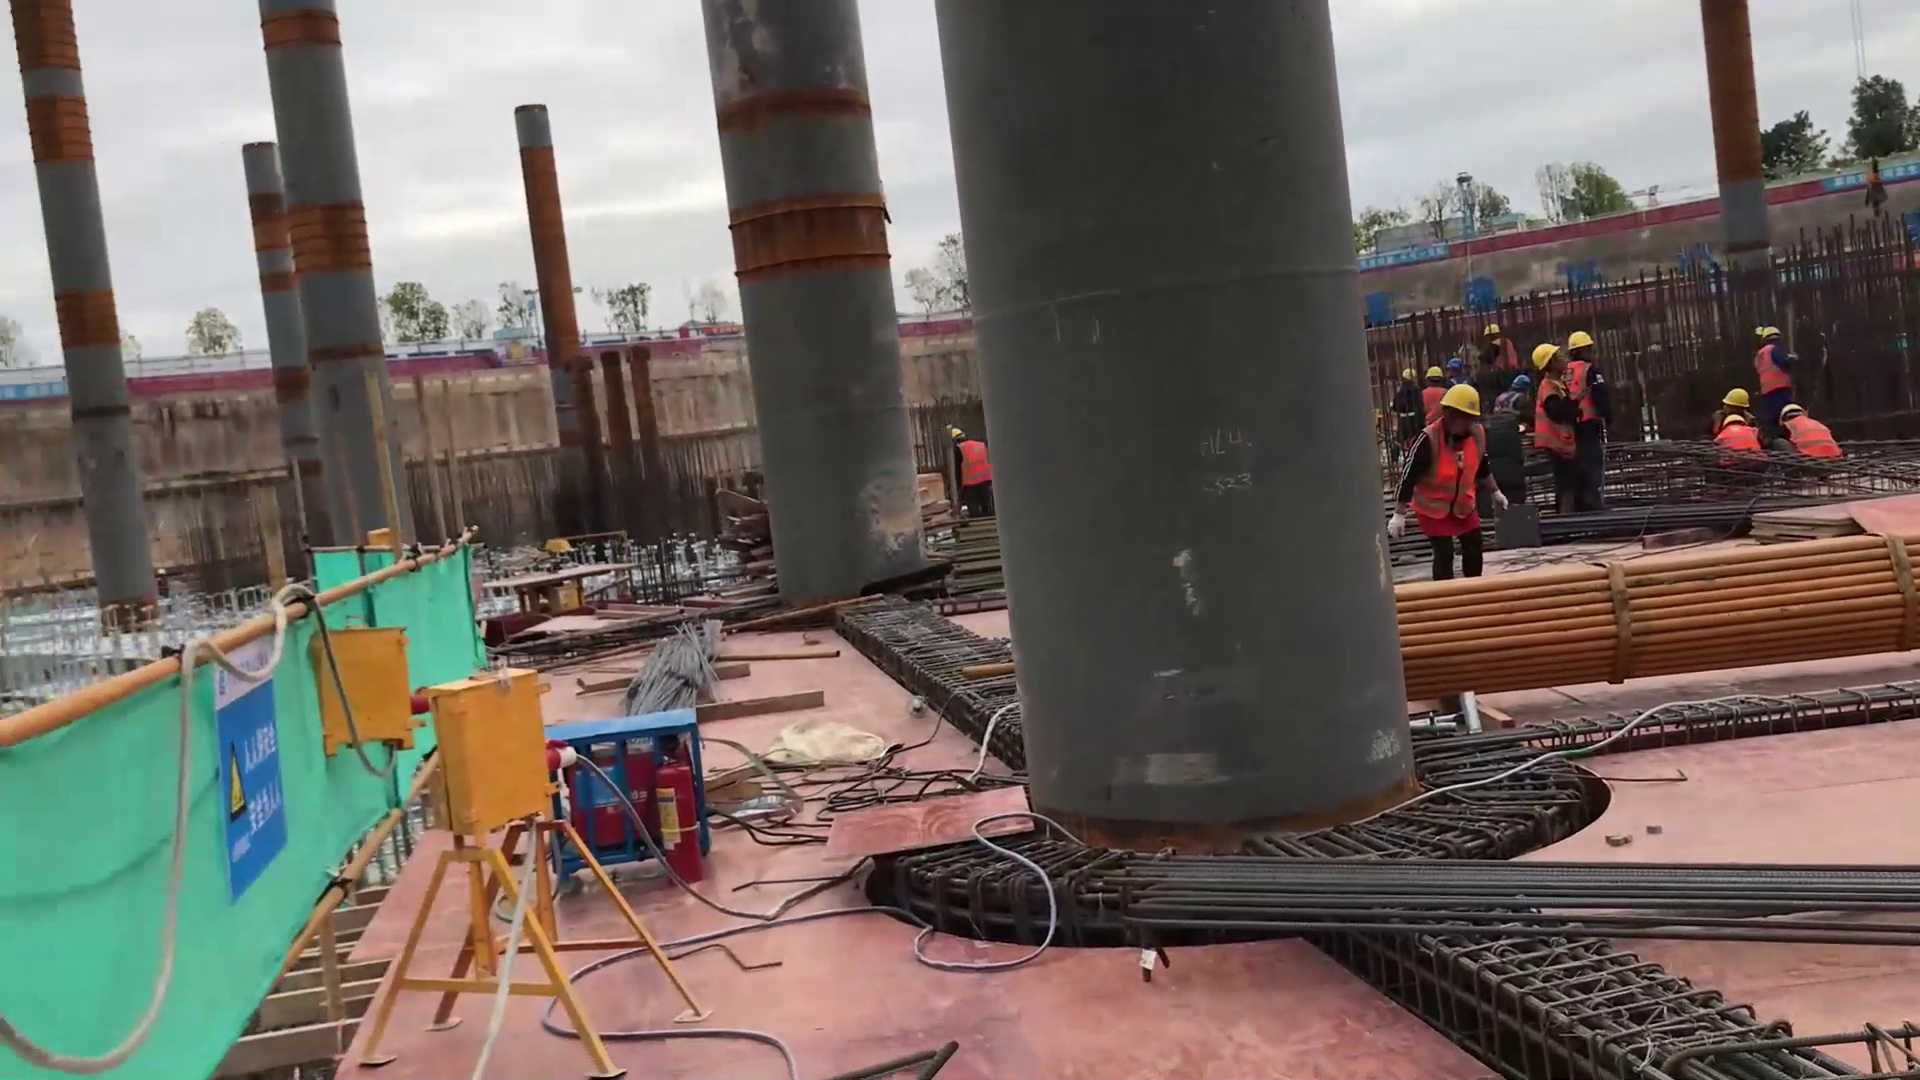helmet: (1445, 385, 1481, 413), (1720, 388, 1754, 407), (1536, 340, 1558, 372), (1568, 330, 1597, 349), (1756, 325, 1781, 336), (944, 426, 964, 441), (1488, 323, 1505, 337), (1447, 359, 1465, 370), (1427, 364, 1442, 377), (1400, 367, 1416, 379), (1513, 374, 1528, 387)
person: (1386, 375, 1484, 585), (1568, 325, 1614, 508), (1535, 341, 1580, 507), (1494, 376, 1538, 502), (943, 418, 984, 515), (1782, 401, 1836, 466), (1757, 325, 1791, 421), (1481, 322, 1522, 378), (1716, 390, 1764, 438), (1720, 417, 1771, 460), (1391, 361, 1419, 441), (1420, 359, 1443, 427), (1448, 357, 1478, 384)
vest: (1411, 423, 1482, 511), (1542, 379, 1577, 459), (1568, 361, 1608, 423), (1788, 421, 1842, 456), (955, 438, 987, 488), (1482, 394, 1522, 432), (1394, 383, 1419, 434), (1759, 352, 1794, 388), (1494, 334, 1515, 373), (1719, 433, 1761, 451), (1423, 387, 1441, 426), (1449, 373, 1477, 381)
